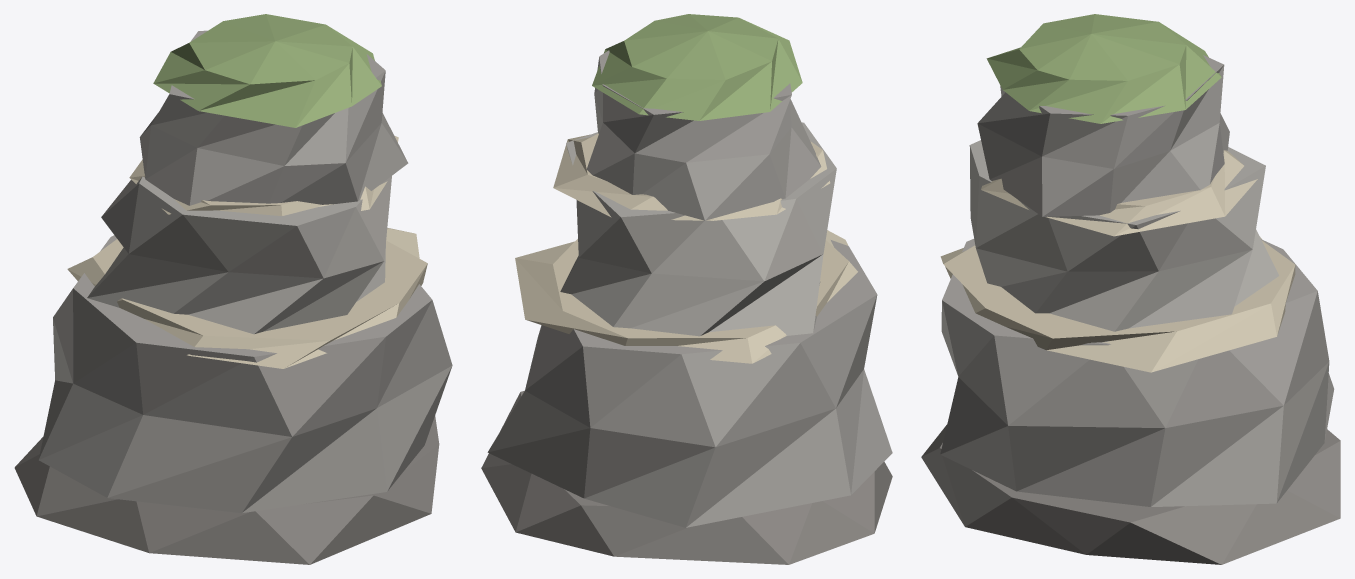
Rendered from sea-stack-1.glb.
3 renders of one model, left to right at view 1: azimuth 30°, elevation 25°; view 2: azimuth 150°, elevation 25°; view 3: azimuth 270°, elevation 25°, orthographic. The views are drawn at different scales.
Parts seen in each view (by area): view 1: LOD0; view 2: LOD0; view 3: LOD0.
Boxes of the visible parts, <box> form: LOD0: <box>14,14,452,564</box>; LOD0: <box>481,14,892,564</box>; LOD0: <box>921,14,1340,564</box>.
Size of what is drawn, in the model's own units: 0.89 by 1 by 0.849.
